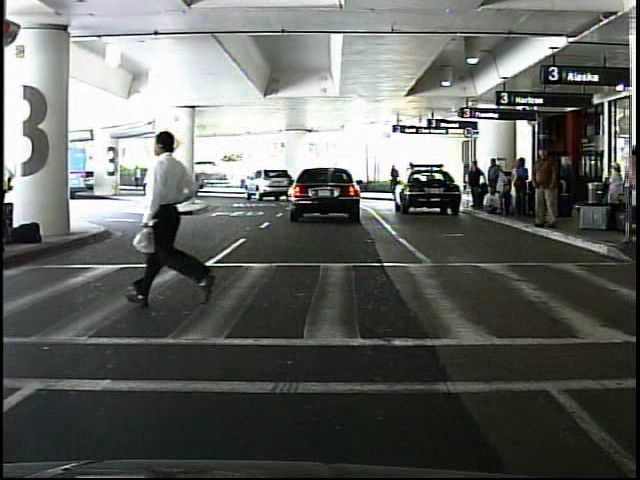person: (118, 128, 227, 310), (528, 142, 563, 232), (467, 158, 486, 210), (388, 164, 402, 198), (132, 163, 143, 189)
